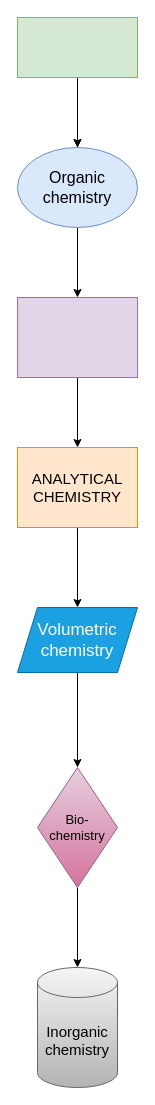
Some shapes in this 155 by 1105 pixel diagram are drawn without their labels. Each missing label, with the centre of its shape:
"Chemistry" goes at pixel 77 47.
"Physical chemistry" goes at pixel 77 337.
